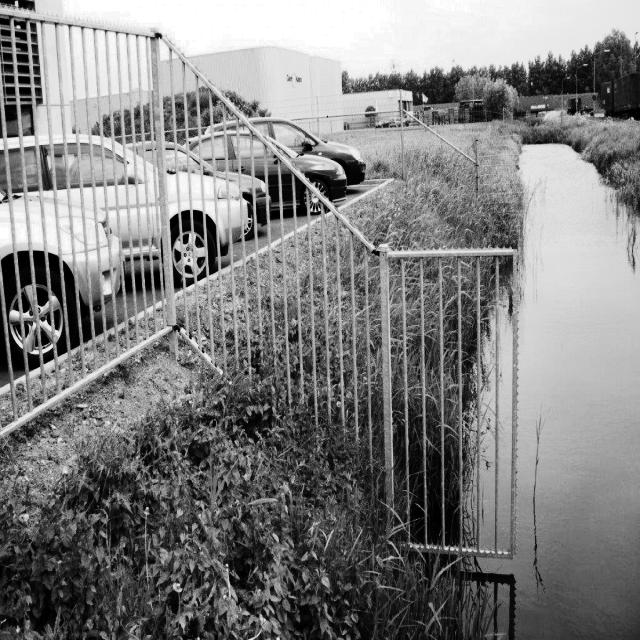fences: (4, 12, 173, 394), (190, 254, 511, 391)
